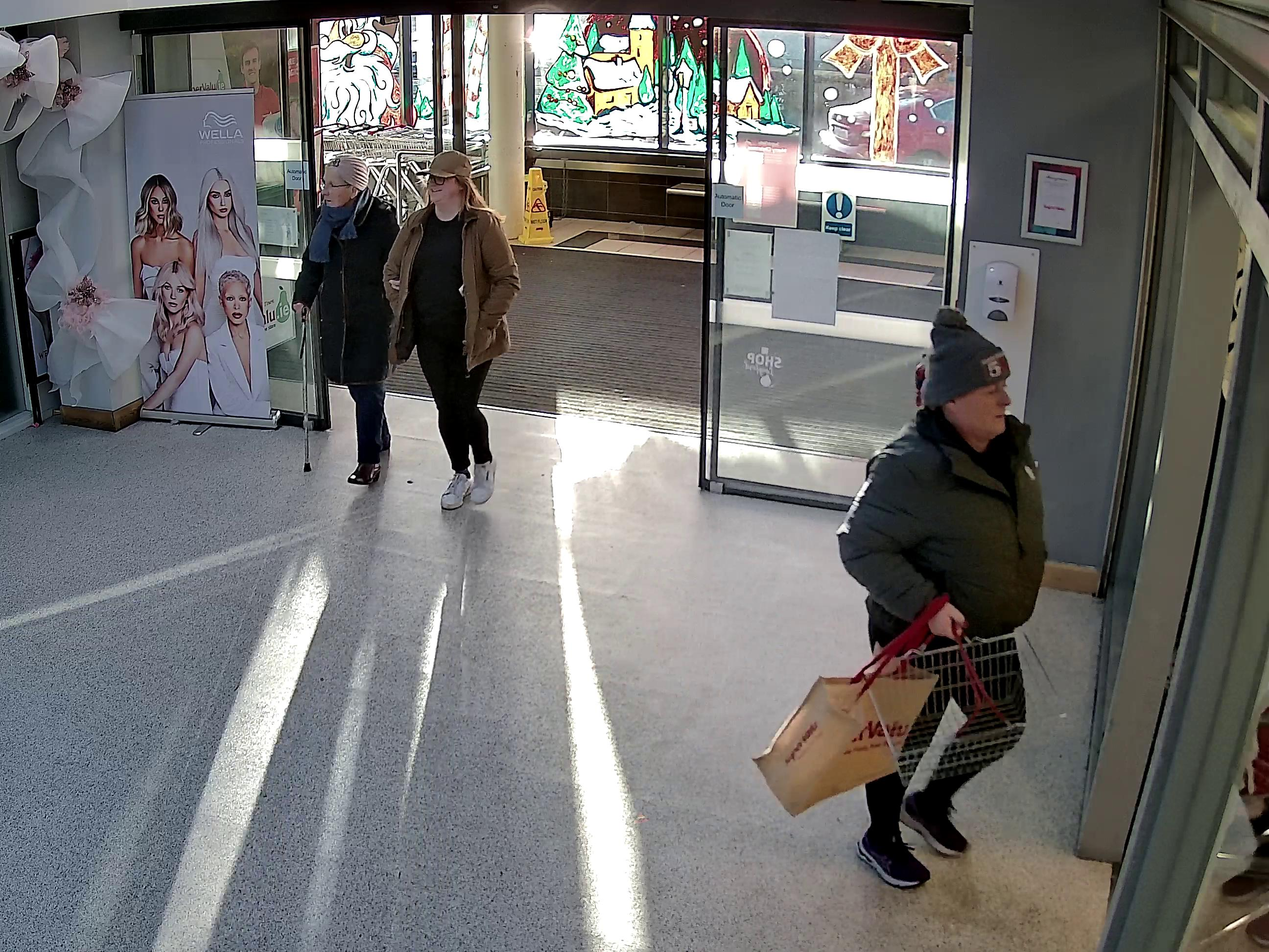empty-basket: (865, 629, 1068, 788)
empty-shopping-bags: (752, 655, 940, 817)
person: (840, 306, 1048, 887)
person-with-basket-trolly-and-shopping-bag: (753, 305, 1068, 886)
